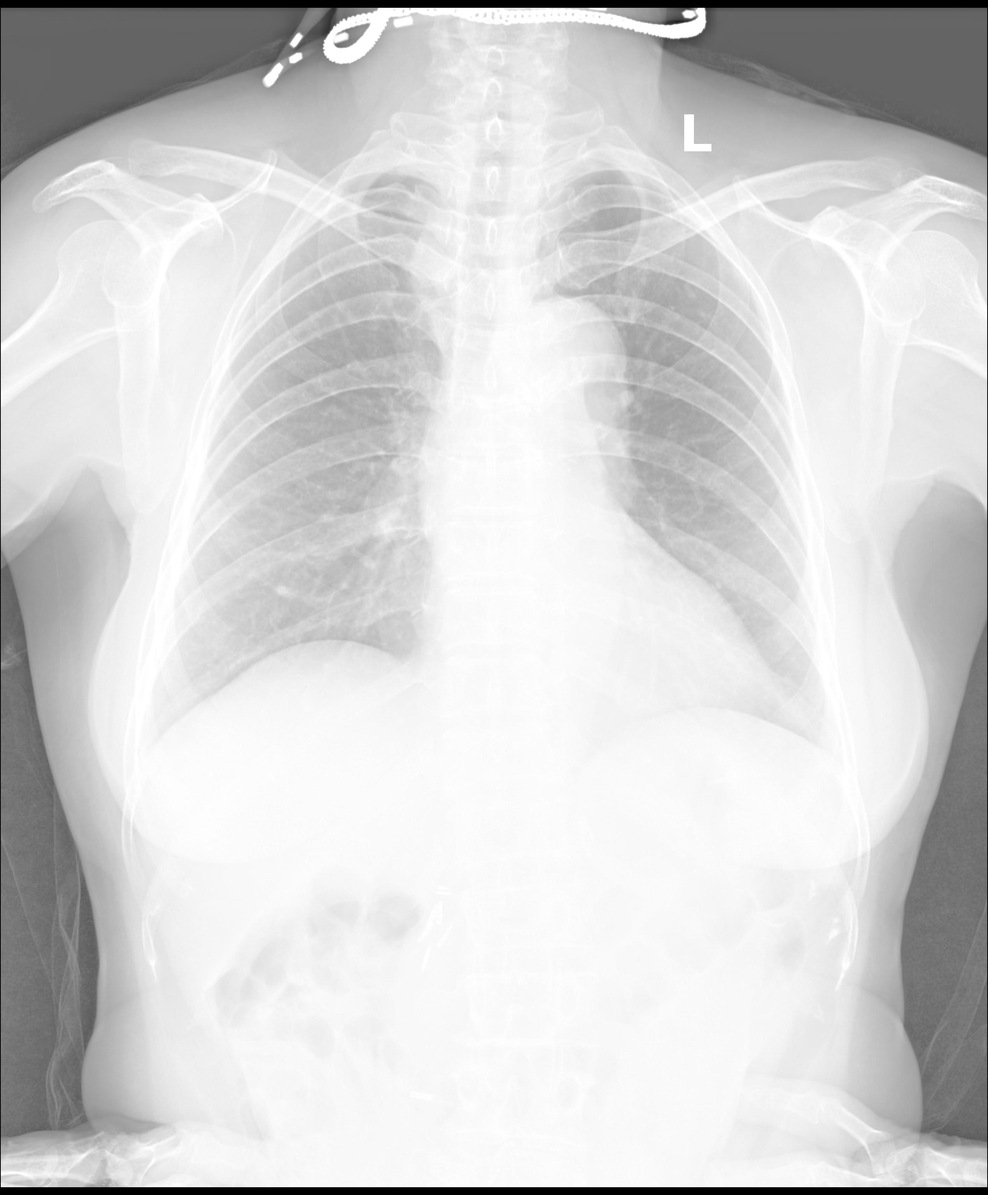Aortic enlargement: (501, 293, 632, 492)
